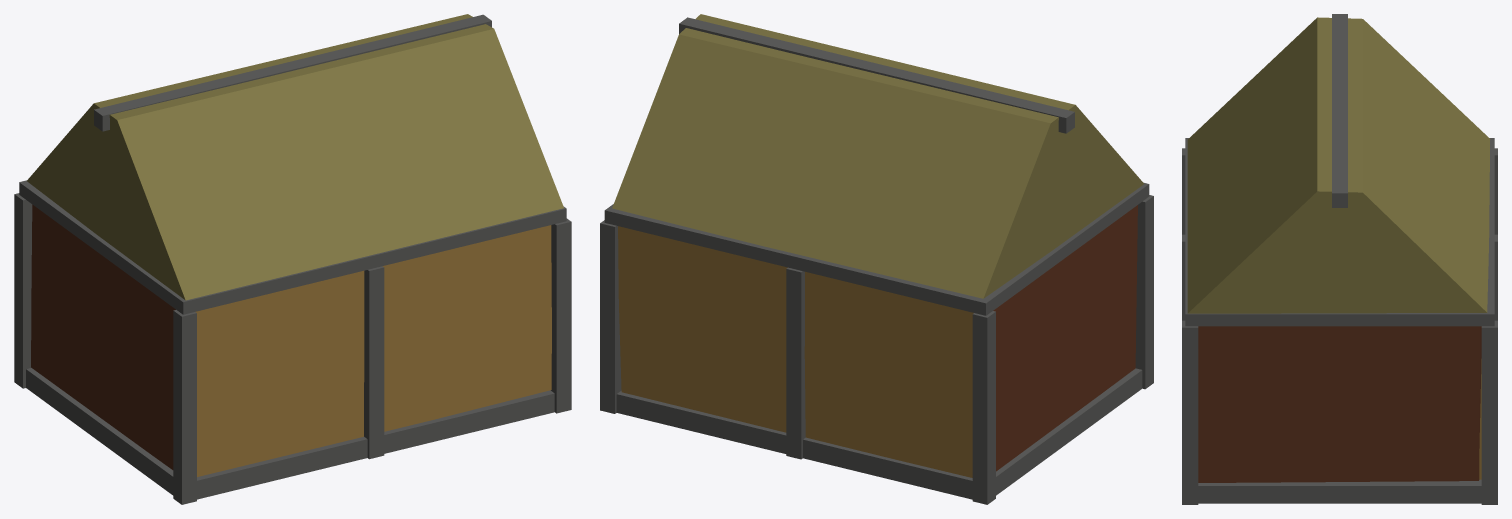
The model's file is cargo_enclosed_frame.glb.
The picture shows the model from 3 angles, left to right: view 1: azimuth 30°, elevation 25°; view 2: azimuth 150°, elevation 25°; view 3: azimuth 270°, elevation 25°; orthographic projection. The views are drawn at different scales.
Visible parts, largest first — view 1: cargo_enclosed_frame; view 2: cargo_enclosed_frame; view 3: cargo_enclosed_frame.
Boxes of the visible parts, left/top/right/bottom form: cargo_enclosed_frame: left=14, top=14, right=571, bottom=504; cargo_enclosed_frame: left=600, top=14, right=1153, bottom=504; cargo_enclosed_frame: left=1182, top=14, right=1497, bottom=504.
Size of the model in its own units: 1.3 by 1.05 by 0.968.
